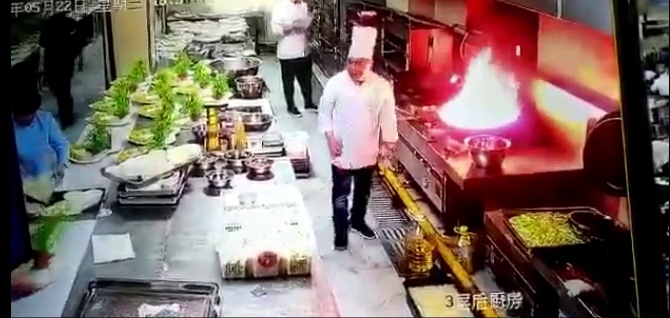fire: (449, 50, 527, 134)
